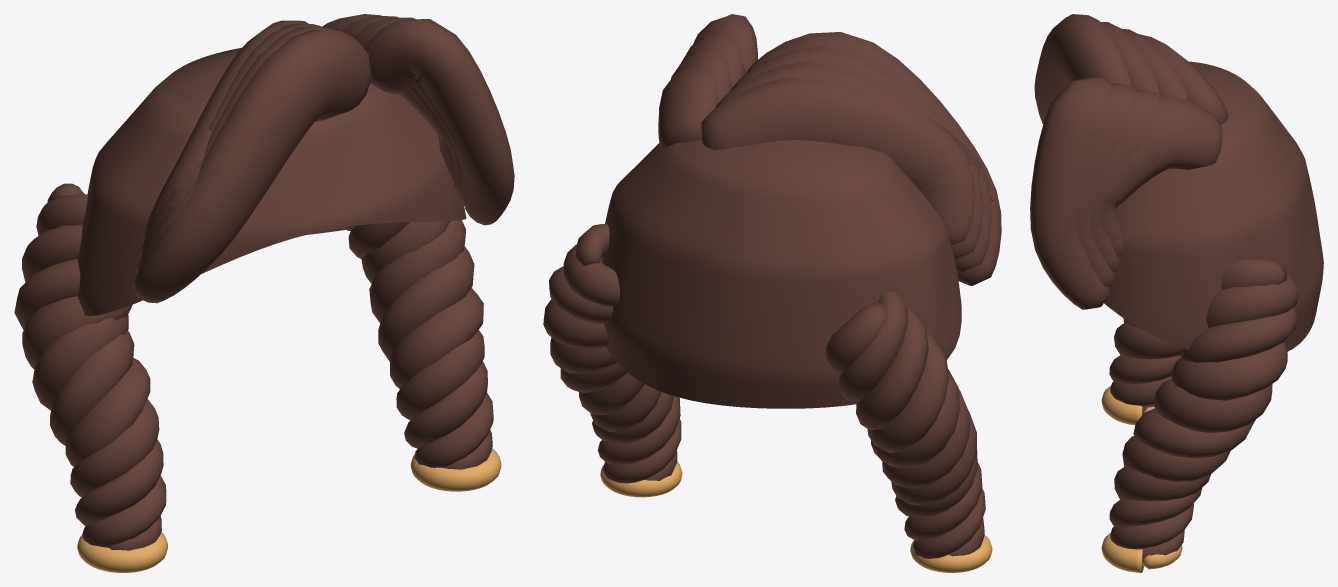
File: studio_braids_medium.glb
The picture shows the model from 3 angles, left to right: view 1: azimuth 30°, elevation 25°; view 2: azimuth 150°, elevation 25°; view 3: azimuth 270°, elevation 25°; orthographic projection. The views are drawn at different scales.
Visible parts, largest first — view 1: braids; view 2: braids; view 3: braids.
Boxes of the visible parts, <box> form: braids: <box>14,14,514,572</box>; braids: <box>543,14,1001,572</box>; braids: <box>1030,14,1323,572</box>.
Size of the model in its own units: 0.5817 by 0.6498 by 0.3764.
